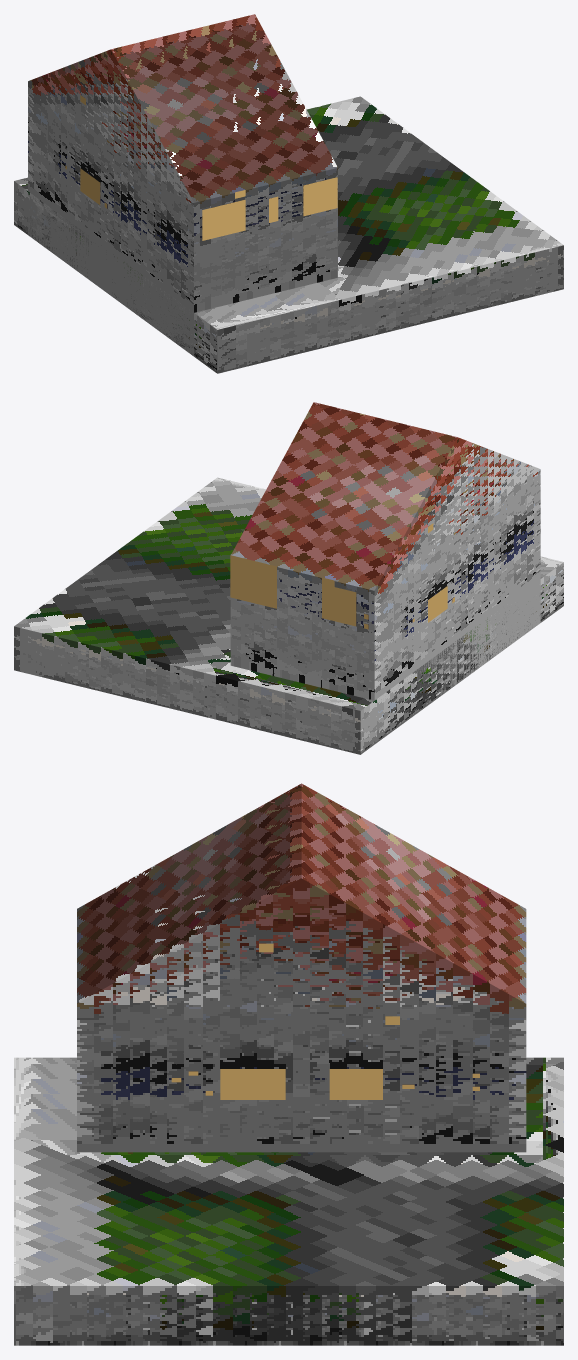
Rendered from dum_54_domy.glb.
3 views of the same model, one above another, from view 1: azimuth 30°, elevation 25°; view 2: azimuth 150°, elevation 25°; view 3: azimuth 270°, elevation 25° (orthographic). The views are drawn at different scales.
Visible parts, largest first — view 1: object 1, noc; view 2: object 1, noc; view 3: object 1, noc.
Boxes of the visible parts, <box> form: object 1: <box>14,14,563,373</box>; noc: <box>65,95,337,240</box>; object 1: <box>14,402,563,754</box>; noc: <box>230,523,454,629</box>; object 1: <box>14,783,563,1345</box>; noc: <box>171,943,479,1099</box>.
Size of the model in its own units: 13.94 by 9.47 by 14.15.
Materials: 1 (1 with a texture image).
